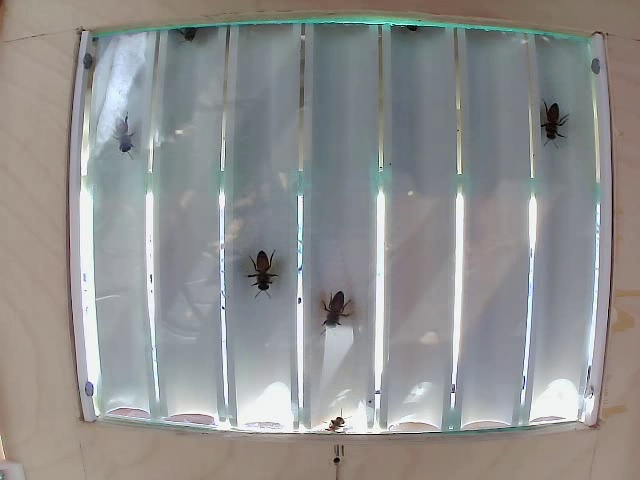bee: (307, 286, 348, 336), (527, 87, 567, 131), (247, 250, 279, 283)
